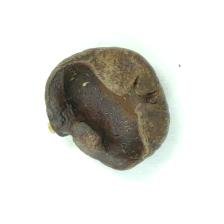NG: (44, 59, 147, 170)
